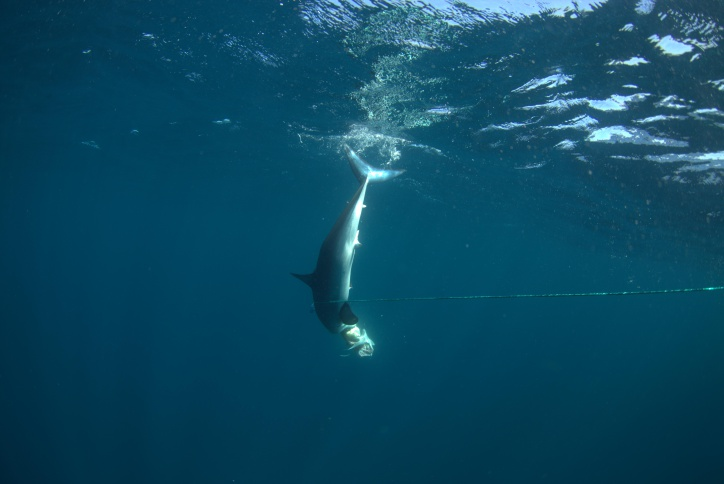Mako: (289, 141, 414, 349)
